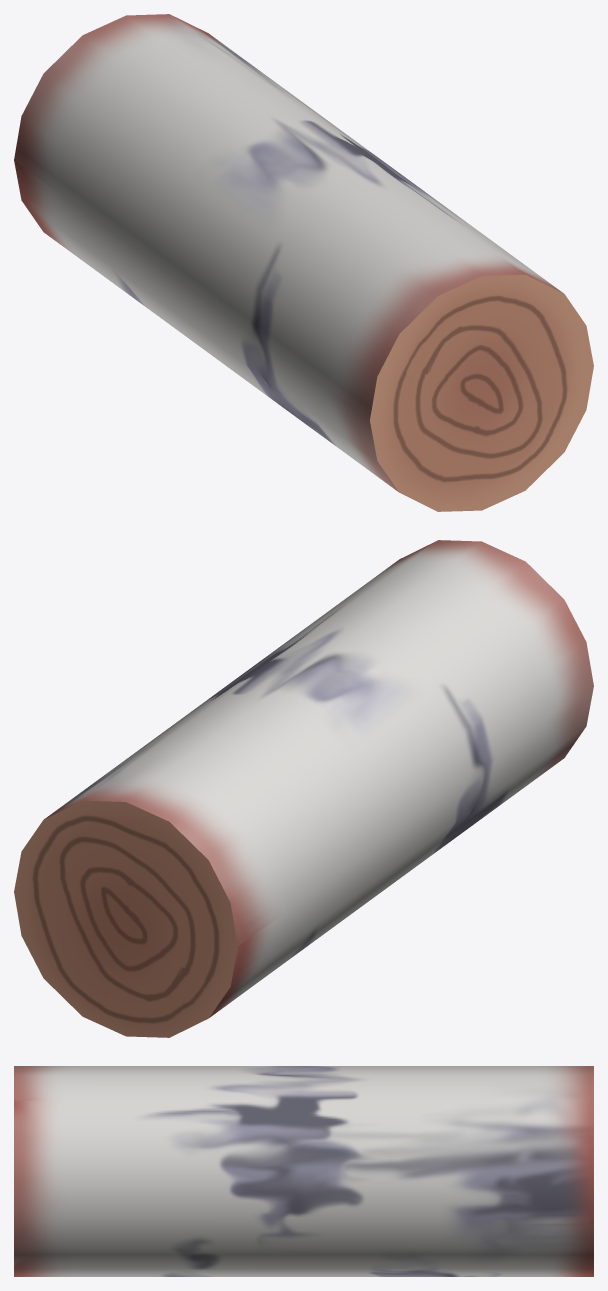
Rendered from Log_004.fbx.
3 views of the same model, one above another, from view 1: azimuth 30°, elevation 25°; view 2: azimuth 150°, elevation 25°; view 3: azimuth 270°, elevation 25° (orthographic). The views are drawn at different scales.
Parts seen in each view (by area): view 1: Log.004; view 2: Log.004; view 3: Log.004.
Boxes of the visible parts, bbox=[...] form: Log.004: bbox=[14, 14, 593, 511]; Log.004: bbox=[14, 540, 593, 1037]; Log.004: bbox=[14, 1066, 593, 1276].
Size of the model in its own units: 87.59 by 87.57 by 241.
